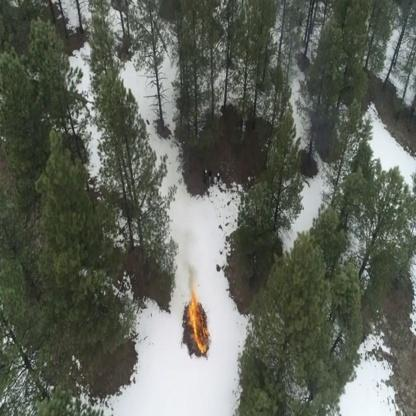Fire: (185, 275, 211, 356)
